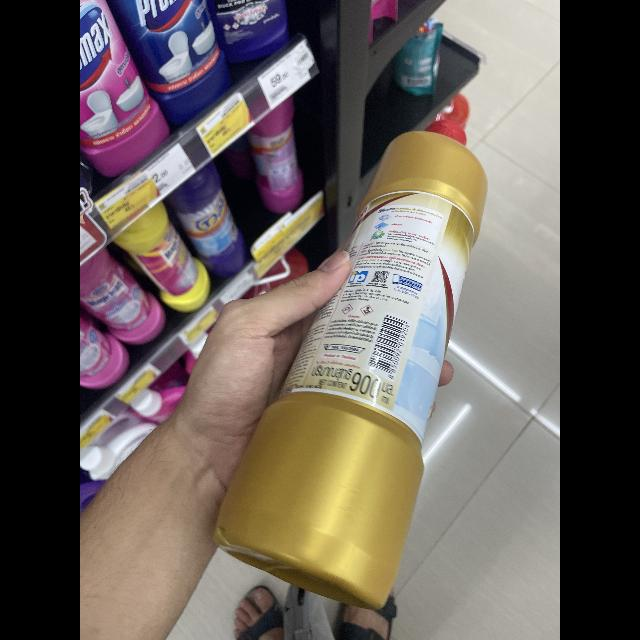chemical_plastic_bottle: (206, 115, 492, 613)
